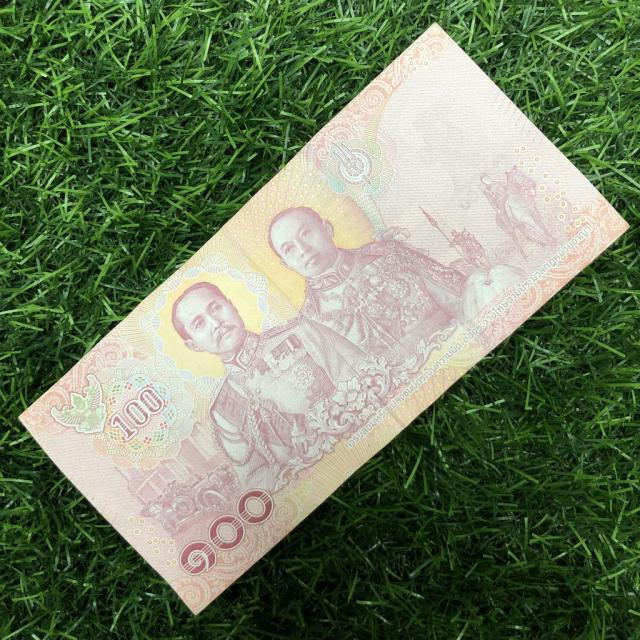THAI100: (20, 24, 626, 611)
